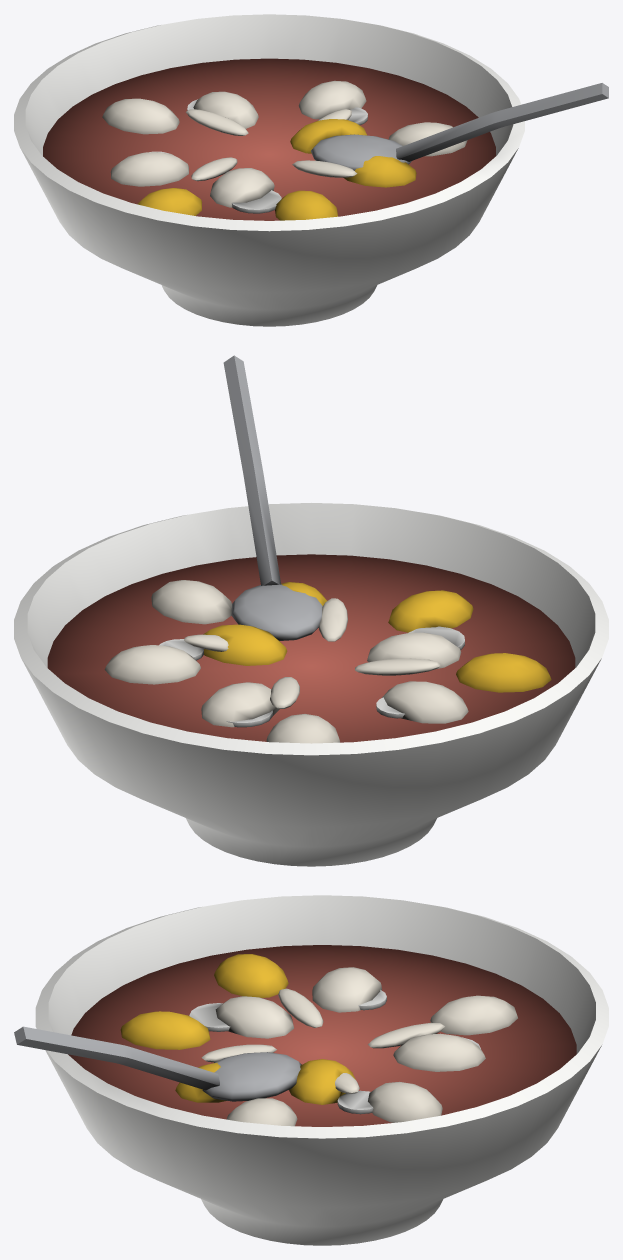
The model's file is meal_soup.glb.
3 views of the same model, one above another, from view 1: azimuth 30°, elevation 25°; view 2: azimuth 150°, elevation 25°; view 3: azimuth 270°, elevation 25° (orthographic). The views are drawn at different scales.
Visible parts, largest first — view 1: PART; view 2: PART; view 3: PART.
Boxes of the visible parts, x1,y1,x2,y2 form: PART: [14, 14, 608, 326]; PART: [14, 355, 608, 866]; PART: [14, 895, 608, 1245].
Bounding box in the file's own units: 0.2323 × 0.1237 × 0.2404.
